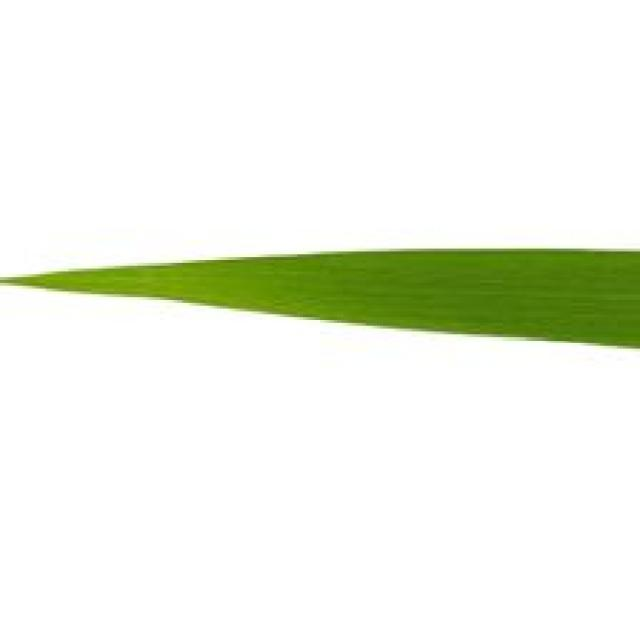Rice___Healthy_Rice_Plant: (1, 251, 637, 349)
